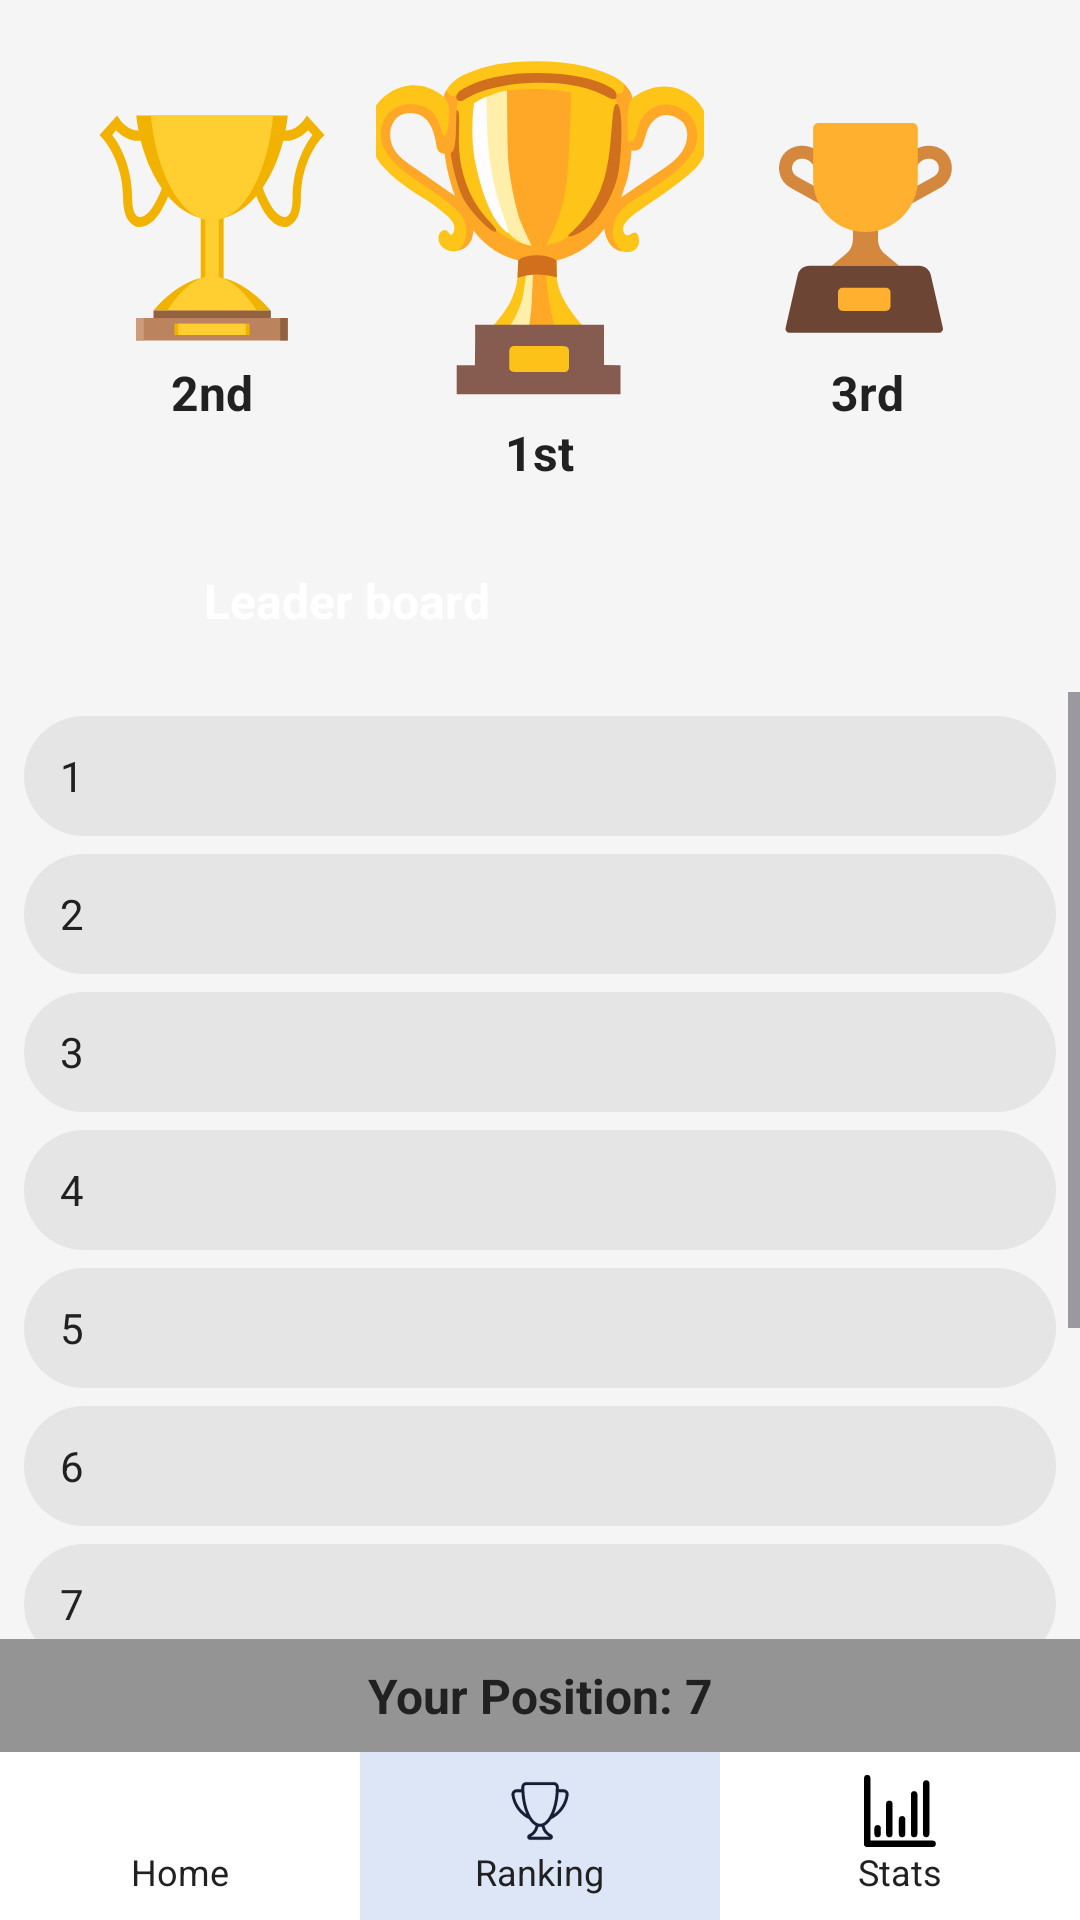

Named icons in this screenshot (1080w x 1920h) and their bounding boxes, (x1, y1, x2, y2):
trophy: (511, 1782, 569, 1840)
